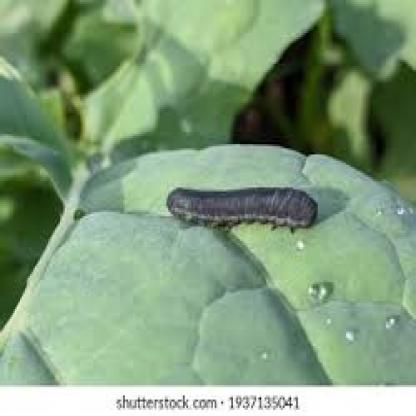sawfly: (162, 175, 327, 238)
